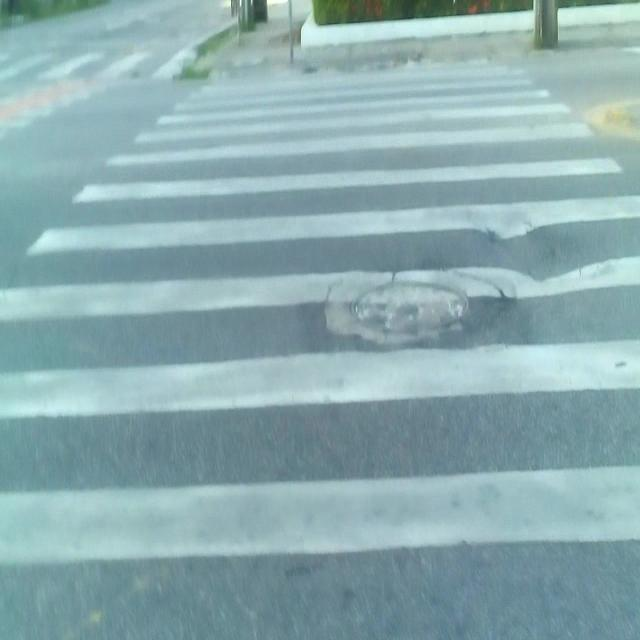crosswalk: (0, 51, 640, 640)
